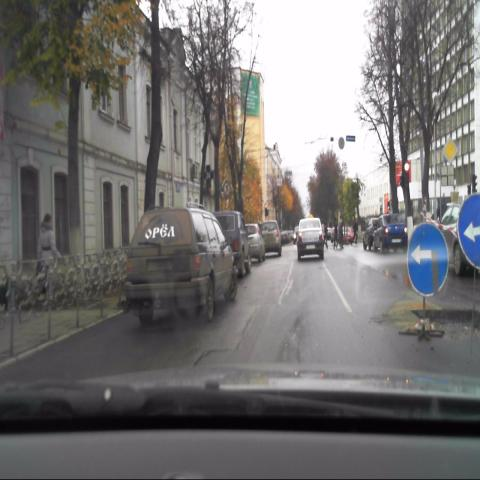4_1_2_2: (406, 219, 449, 298)
